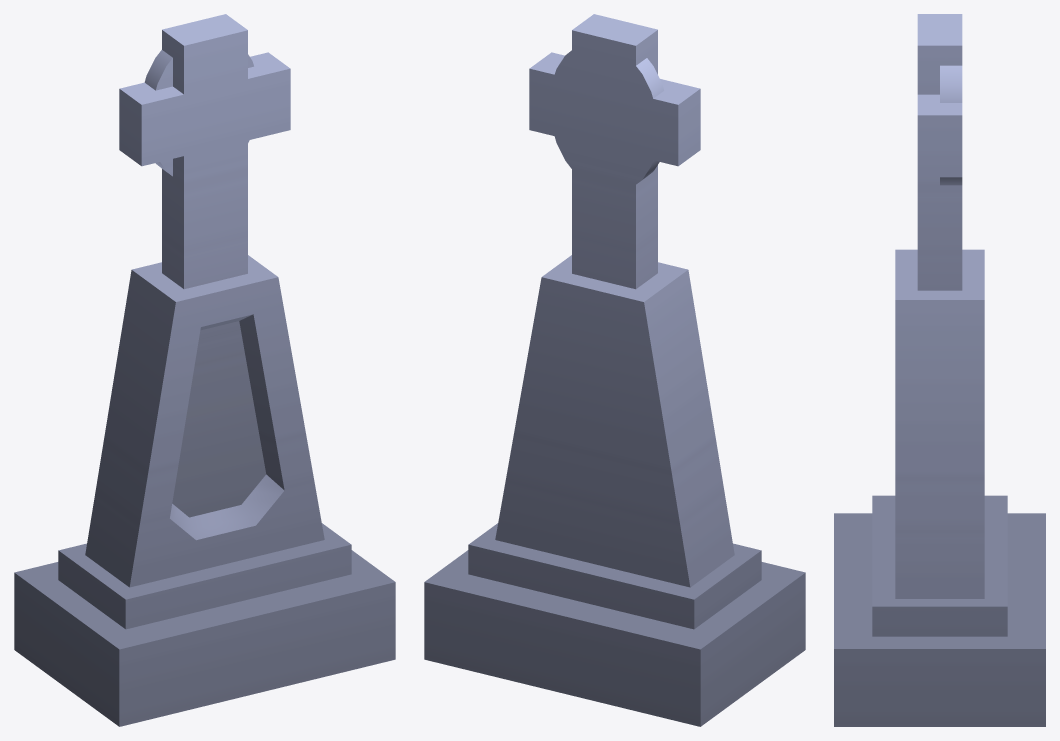
Rendered from gravestone-cross.glb.
3 views of the same model, side by side, from view 1: azimuth 30°, elevation 25°; view 2: azimuth 150°, elevation 25°; view 3: azimuth 270°, elevation 25° (orthographic).
Parts seen in each view (by area): view 1: Asset3DLoader.sceneRoot; view 2: Asset3DLoader.sceneRoot; view 3: Asset3DLoader.sceneRoot.
Part boxes in pixels (x1,y1,x2,y2): Asset3DLoader.sceneRoot: (14,14,395,726); Asset3DLoader.sceneRoot: (424,14,805,726); Asset3DLoader.sceneRoot: (834,14,1045,726).
Bounding box in the file's own units: 0.4415 × 0.9543 × 0.2913.
1 material, 1 textured.
